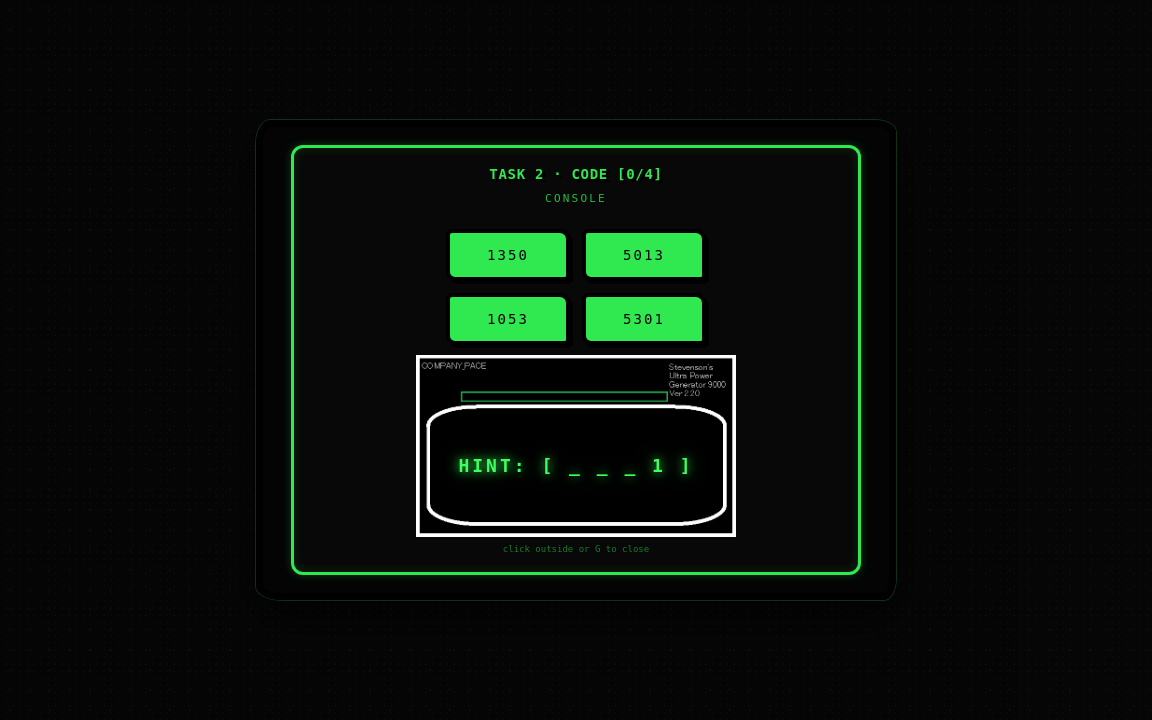
it: office wire completion › shows a red wrong-answer flash without shaking the terminal
Click the button with class "mo-con-btn" showing "1350": (508, 255) 446,229 -> 570,281
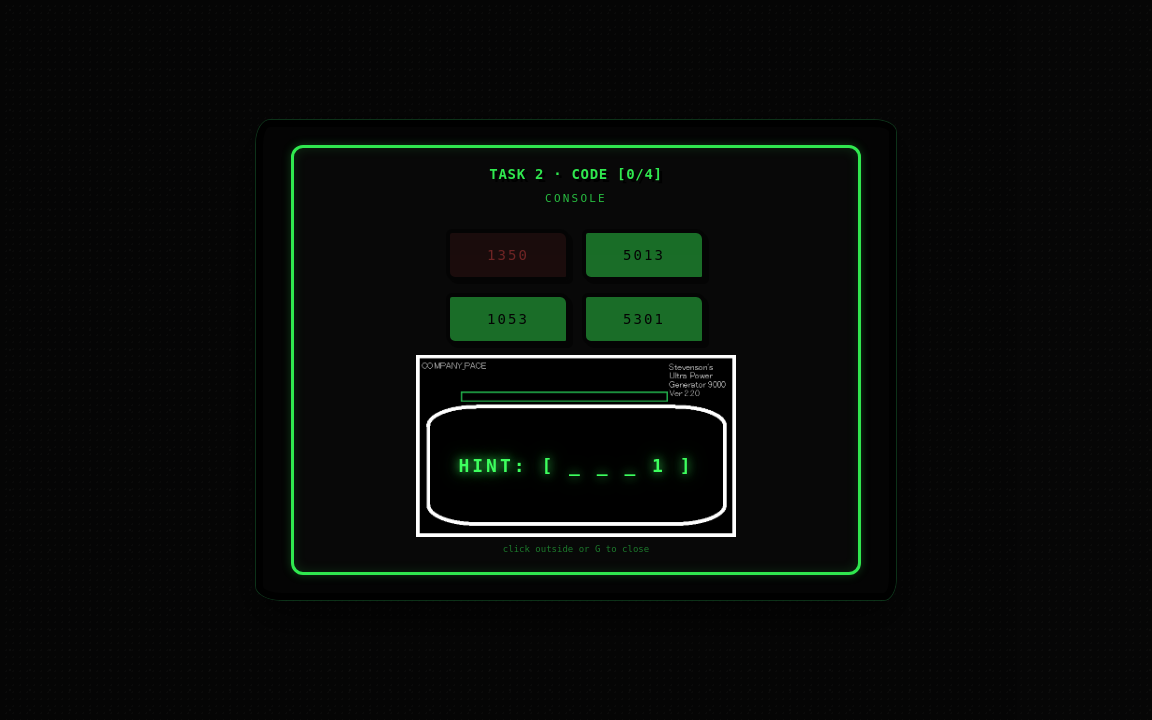
Check: the button with class "mo-con-btn" has class "bad", box 446,229 -> 570,281
